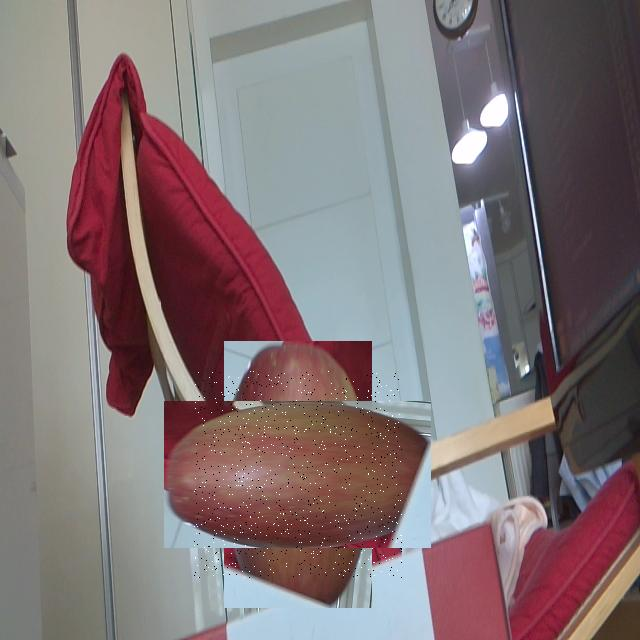apple: (194, 371, 402, 578)
